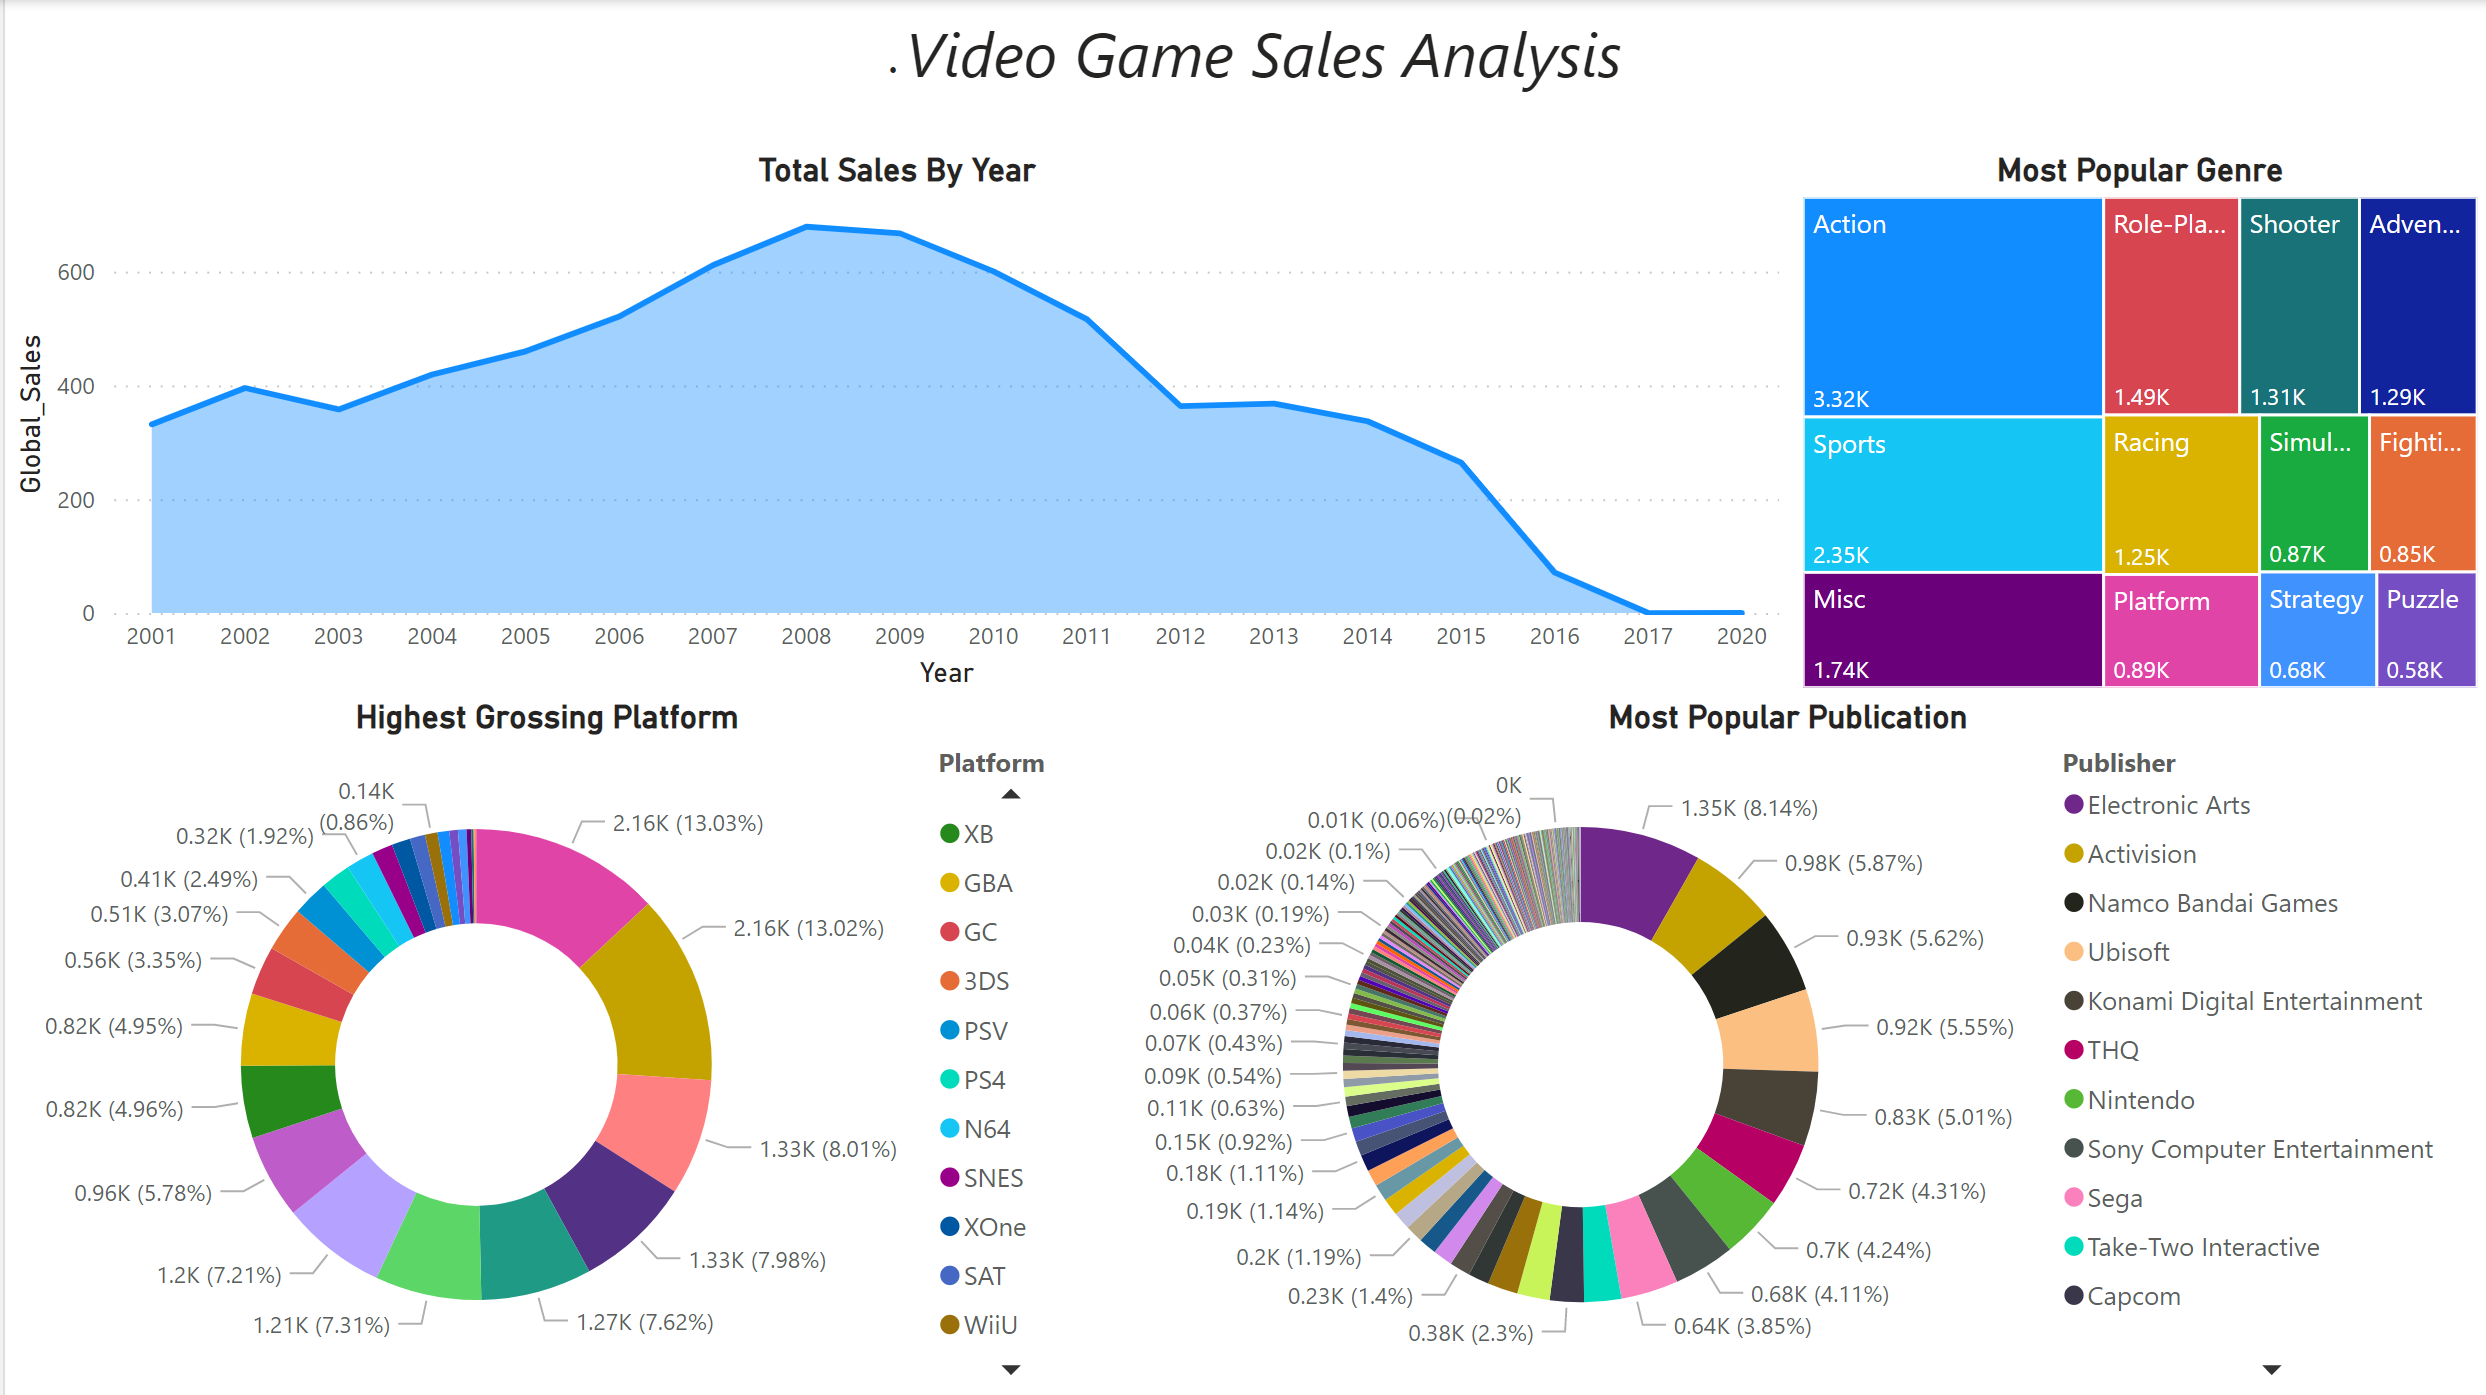

The dashboard page shown, as its layout file describes it:
{"tool":"powerbi","page":{"name":"Video Game Sales","canvas":[1280,720],"ordinal":0},"visuals":[{"type":"textbox","box":[0,0,1280,55.7],"z":1},{"type":"treemap","title":"Most Popular Genre","fields":{"Group":["Name, Year, Genre.Genre"],"Values":["CountNonNull(Name, Year, Genre.Genre)"]},"box":[922.6,77.8,357.4,282],"z":2},{"type":"stackedAreaChart","title":"Total Sales By Year","fields":{"Category":["vgsales.Year"],"Y":["Sum(vgsales.Global_Sales)"]},"box":[0,77.8,920.3,282],"z":3},{"type":"donutChart","title":"Highest Grossing Platform","fields":{"Category":["Name, Year, Platform.Platform"],"Y":["CountNonNull(Name, Year, Platform.Platform)"]},"box":[0,359.7,559.3,359.7],"z":4},{"type":"donutChart","title":"Most Popular Publication","fields":{"Category":["Name, Year, Publisher.Publisher"],"Y":["CountNonNull(Name, Year, Publisher.Publisher)"]},"box":[559.3,359.7,720.7,359.7],"z":5}]}

Visuals, with their boxes in screenshot pixels (x1, y1, x2, y2), scaled from the page's 1280x720 canvas onto the 2486x1395 screenshot:
textbox: select_region(0, 0, 2485, 108)
"Most Popular Genre" treemap: select_region(1792, 151, 2485, 697)
"Total Sales By Year" stackedAreaChart: select_region(0, 151, 1787, 697)
"Highest Grossing Platform" donutChart: select_region(0, 697, 1086, 1394)
"Most Popular Publication" donutChart: select_region(1086, 697, 2485, 1394)
